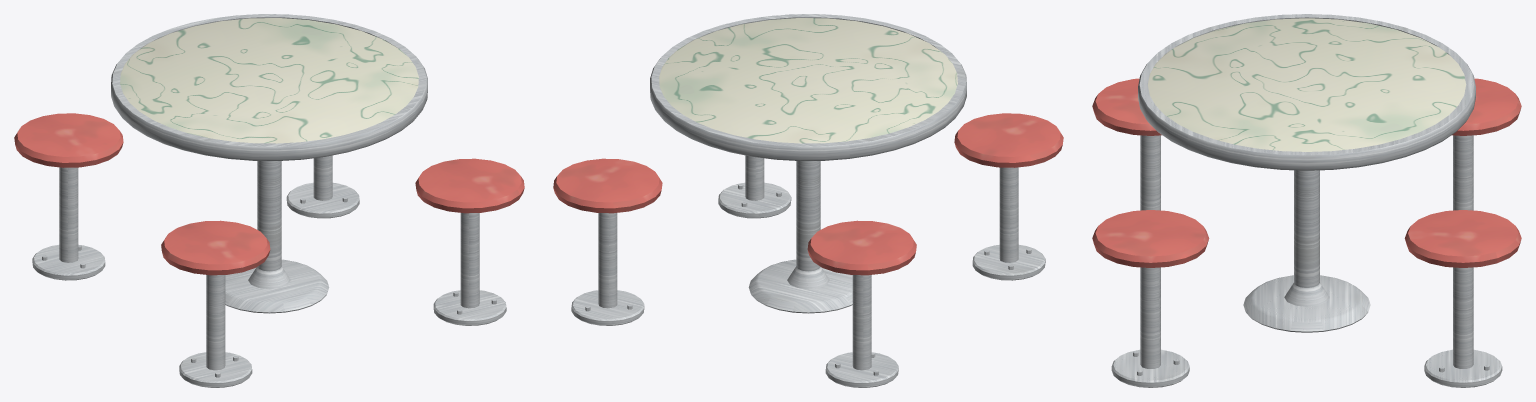
The model's file is hawker_table.glb.
3 views of the same model, side by side, from view 1: azimuth 30°, elevation 25°; view 2: azimuth 150°, elevation 25°; view 3: azimuth 270°, elevation 25° (orthographic). The views are drawn at different scales.
Visible parts, largest first — view 1: hawker_table__formica, hawker_table__steel_brushed, hawker_table__plastic_red; view 2: hawker_table__formica, hawker_table__steel_brushed, hawker_table__plastic_red; view 3: hawker_table__formica, hawker_table__steel_brushed, hawker_table__plastic_red.
Part boxes in pixels (<box>): hawker_table__formica: <box>120,18,418,143</box>; hawker_table__steel_brushed: <box>32,14,506,387</box>; hawker_table__plastic_red: <box>14,113,524,275</box>; hawker_table__formica: <box>659,18,957,143</box>; hawker_table__steel_brushed: <box>571,14,1045,387</box>; hawker_table__plastic_red: <box>553,113,1063,275</box>; hawker_table__formica: <box>1147,18,1466,151</box>; hawker_table__steel_brushed: <box>1111,14,1502,387</box>; hawker_table__plastic_red: <box>1092,78,1521,267</box>.
Bounding box in the file's own units: 1.32 × 0.752 × 1.32.
Materials: 3 (3 with a texture image).
